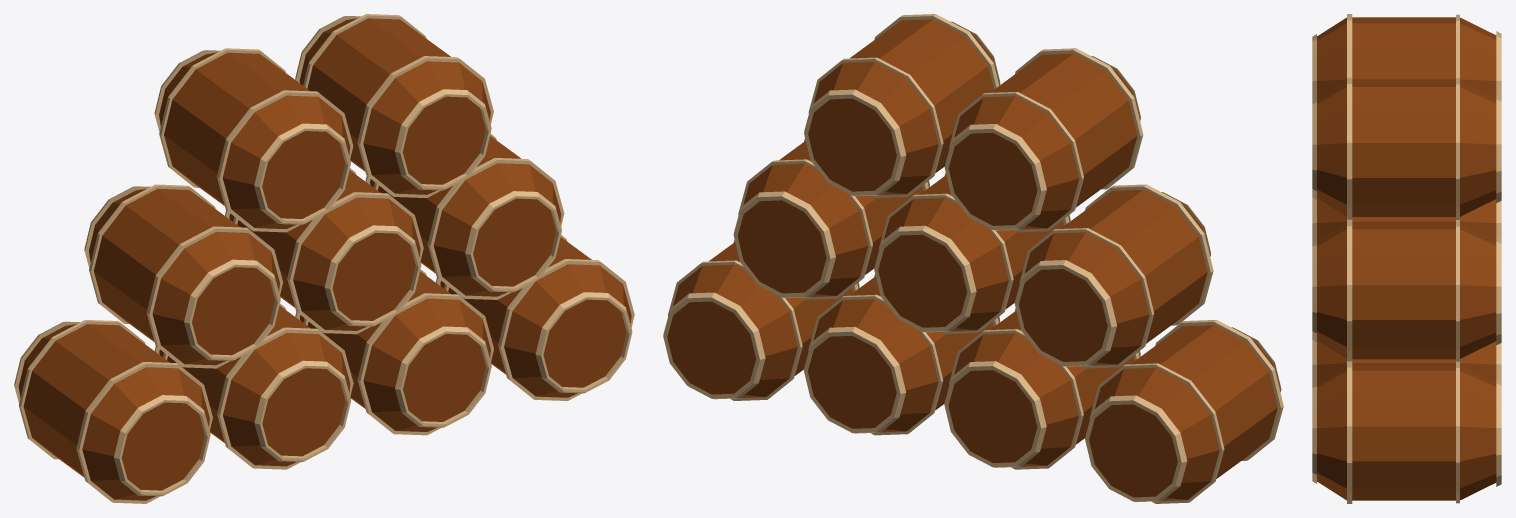
File: WoodBarrelPile.fbx
3 renders of one model, left to right at view 1: azimuth 30°, elevation 25°; view 2: azimuth 150°, elevation 25°; view 3: azimuth 270°, elevation 25°, orthographic. The views are drawn at different scales.
Parts seen in each view (by area): view 1: WoodenBarrell.002; view 2: WoodenBarrell.002; view 3: WoodenBarrell.002.
Part boxes in pixels (<box>): WoodenBarrell.002: <box>14,14,634,503</box>; WoodenBarrell.002: <box>663,14,1283,503</box>; WoodenBarrell.002: <box>1312,14,1501,503</box>.
Size of the model in its own units: 871 by 565 by 278.
